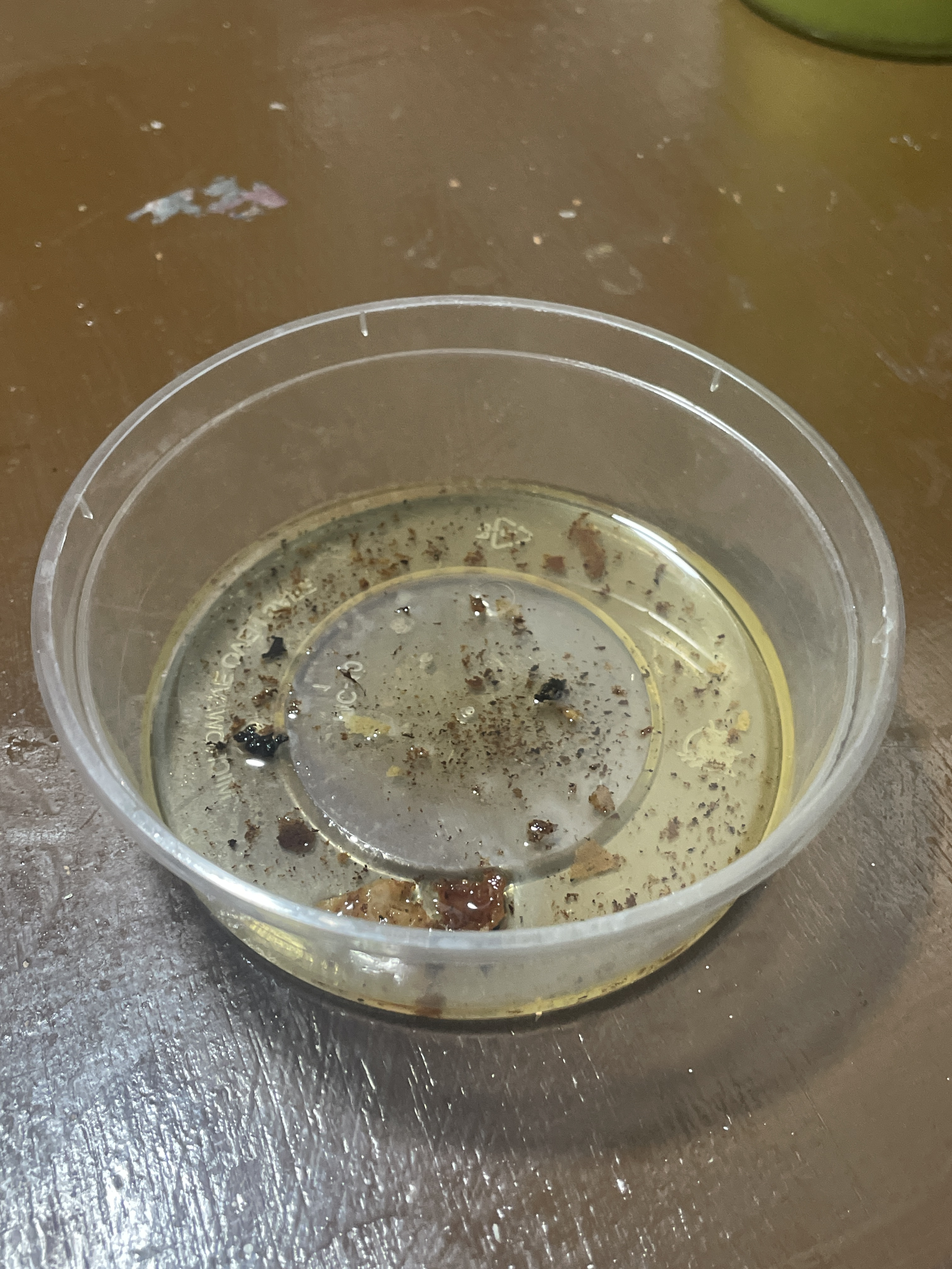non-reusable: (151, 485, 790, 928)
